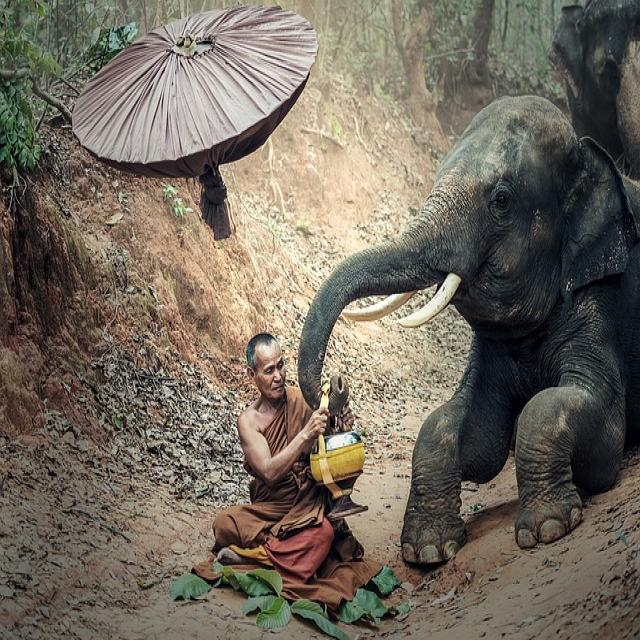elephant: (299, 96, 640, 565)
